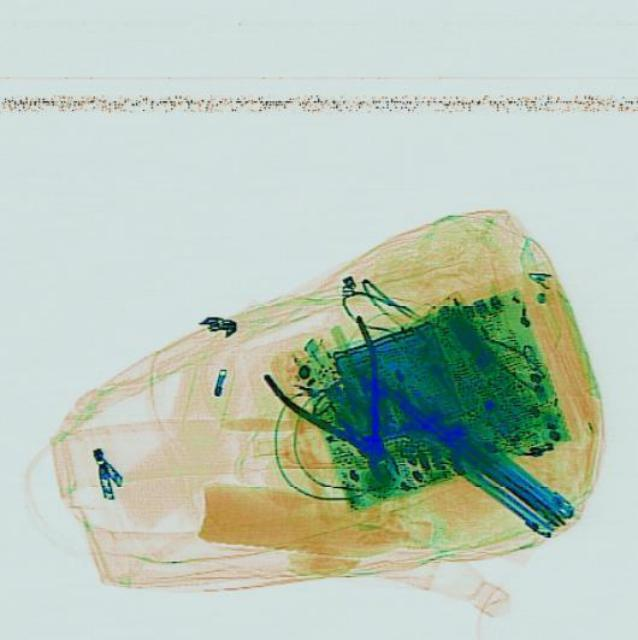Pliers: (253, 312, 441, 503)
